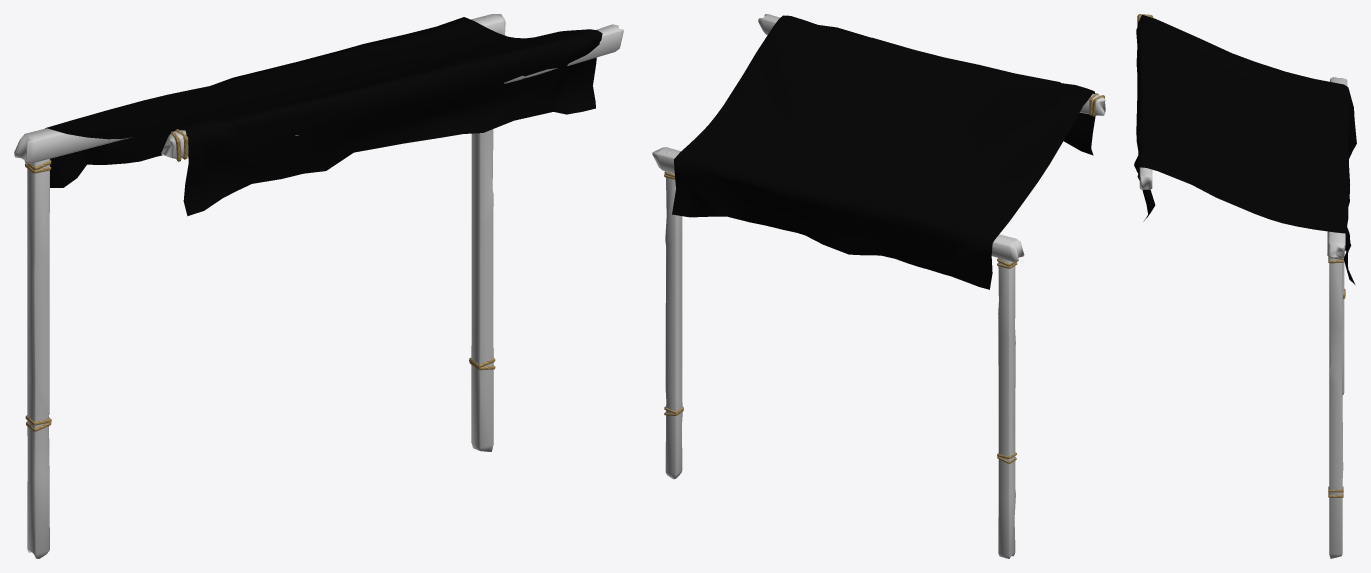
File: SM_StoreStallTall.fbx
3 views of the same model, side by side, from view 1: azimuth 30°, elevation 25°; view 2: azimuth 150°, elevation 25°; view 3: azimuth 270°, elevation 25° (orthographic). The views are drawn at different scales.
Visible parts, largest first — view 1: SM_StoreStallTall_LOD0; view 2: SM_StoreStallTall_LOD0; view 3: SM_StoreStallTall_LOD0.
Part boxes in pixels (box(x1,y1,x2,y2)): SM_StoreStallTall_LOD0: box(14, 14, 623, 558); SM_StoreStallTall_LOD0: box(652, 14, 1105, 558); SM_StoreStallTall_LOD0: box(1134, 14, 1356, 558).
Size of what is drawn, in the model's own units: 4.98 by 5.1 by 2.66.
